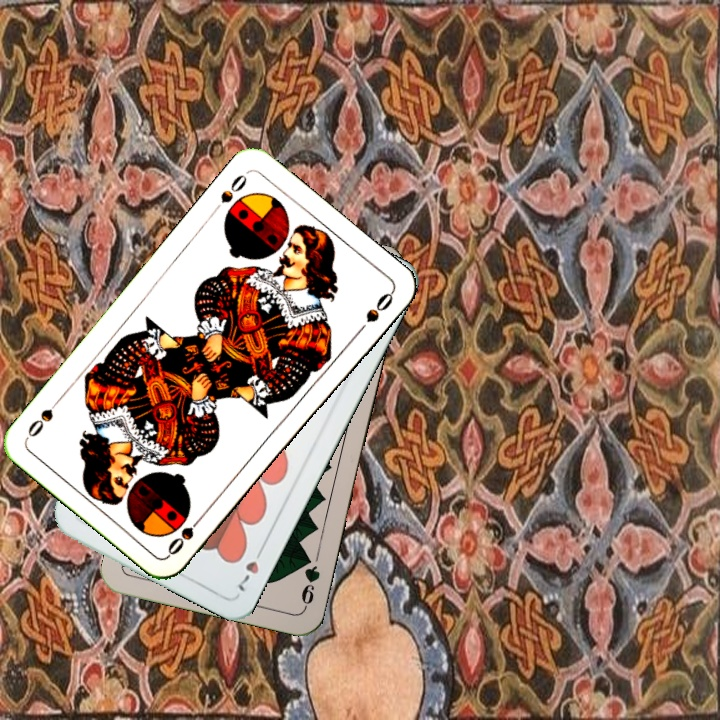G9: (297, 550, 323, 611)
H7: (233, 542, 267, 595)
SO: (163, 509, 208, 558), (216, 168, 251, 206)
